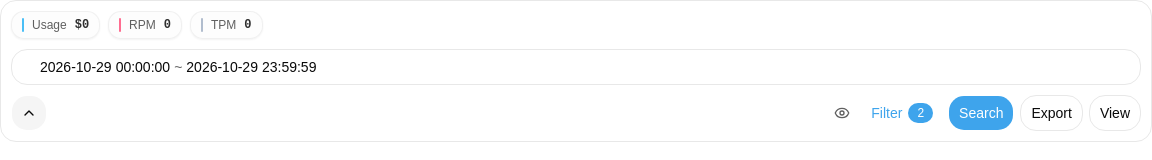
Scenario: collapses only date and statistics while keeping the right-hand quick actions visible
Expected: the button "Filter 2" is shown, [862, 95, 942, 131]
Expected: the text "Usage" is shown, [32, 17, 67, 33]
Step 1. Click the button named "Collapse" → coordinates (29, 113), box [11, 95, 47, 131]
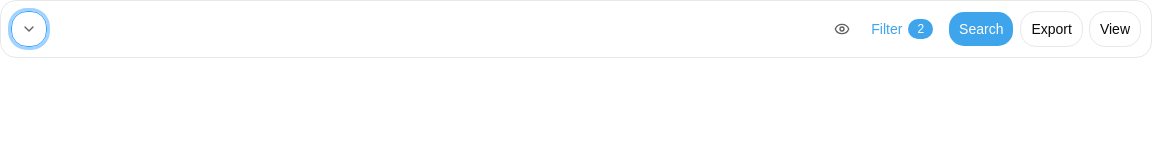
Expected: the button named "Hide" is shown, [828, 11, 856, 47]
Result: the button named "Expand" is collapsed
Result: the text "Usage" is gone
Step 2. Click the button named "Expand" → coordinates (29, 29), box [11, 11, 47, 47]
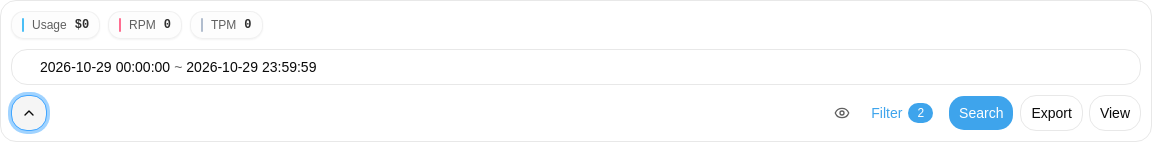
Result: the button named "Collapse" is expanded at [11, 95, 47, 131]
Result: the button named "Date Range" is shown at [11, 49, 1141, 85]
Result: the text "Usage" is shown at [32, 17, 67, 33]
